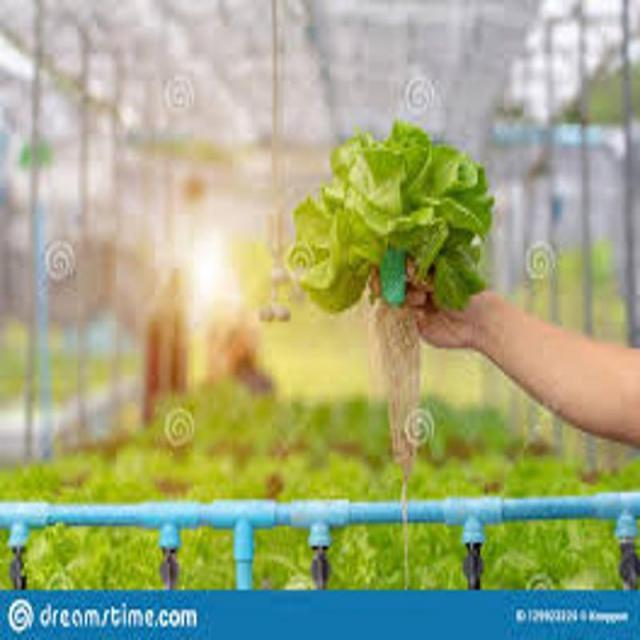Lettuce: (296, 127, 496, 315)
